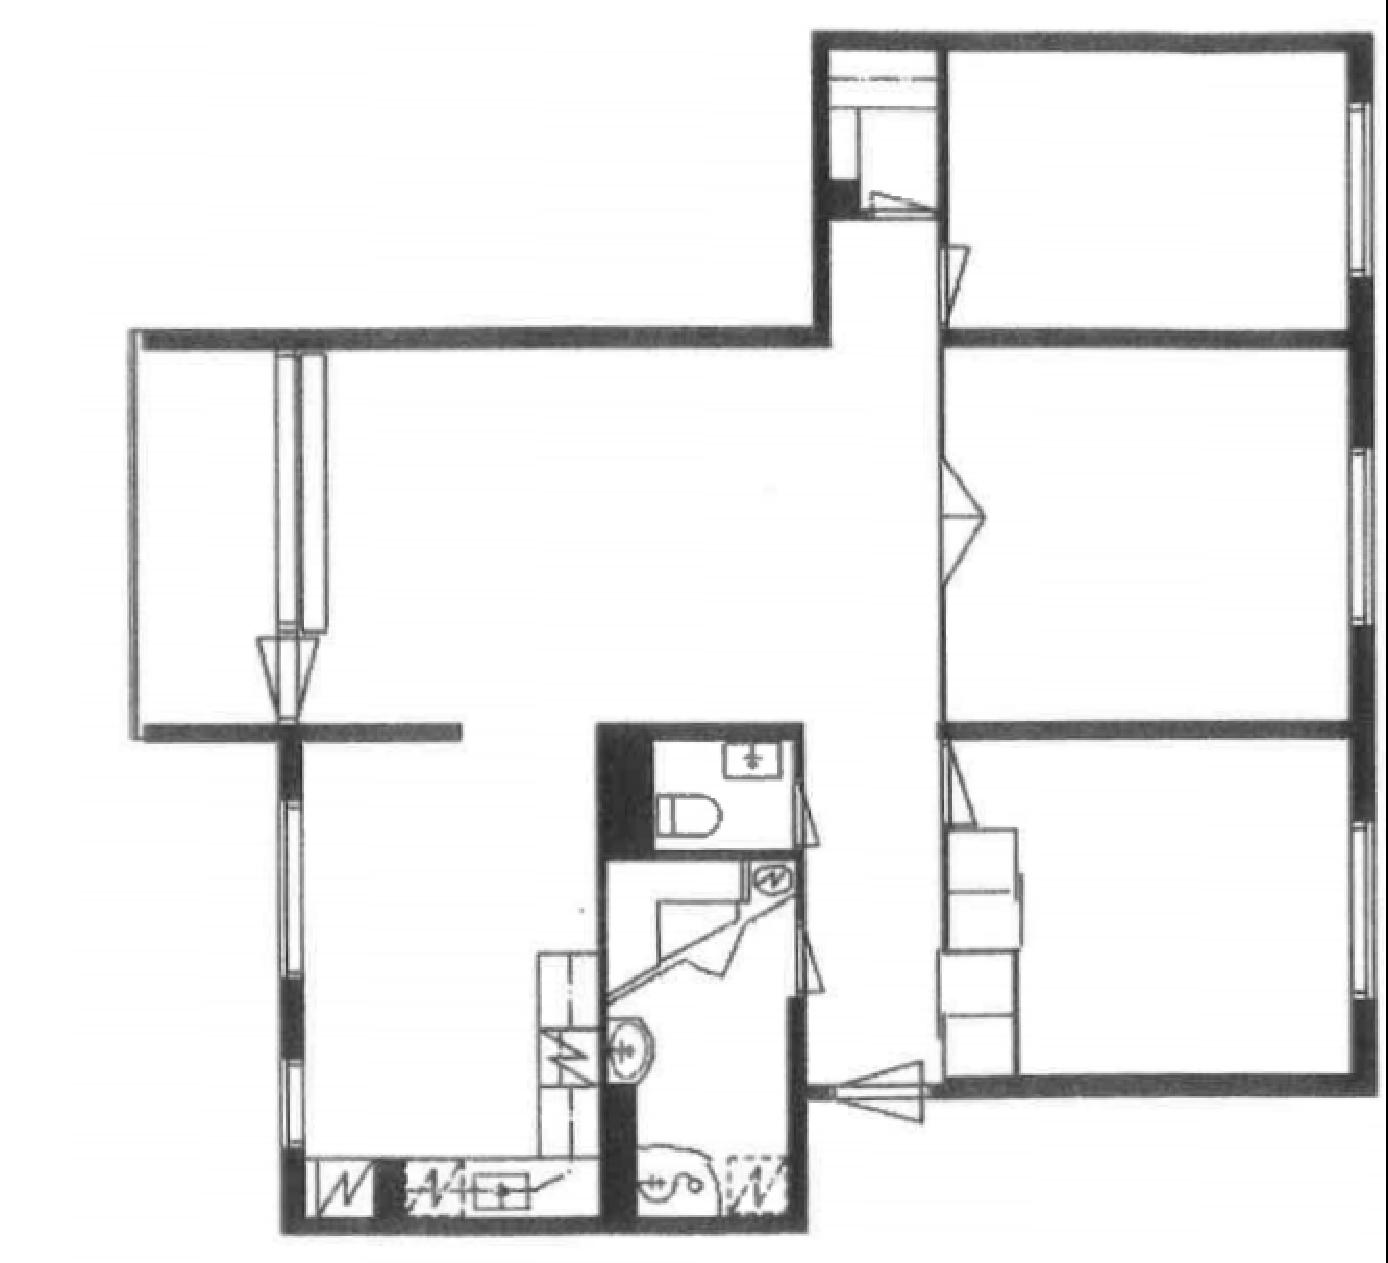door: (311, 45, 961, 1218), (942, 344, 1344, 718), (943, 738, 1352, 1074), (939, 50, 1351, 328), (611, 864, 786, 1213), (135, 335, 284, 731)
window: (825, 1064, 938, 1126), (935, 463, 990, 581), (259, 633, 328, 725), (943, 751, 990, 832), (792, 923, 828, 995), (793, 790, 828, 852), (871, 184, 931, 218), (943, 245, 967, 323)
zone: (274, 353, 324, 628), (1346, 450, 1380, 626), (278, 799, 307, 979), (1346, 825, 1373, 998), (1347, 102, 1370, 276), (284, 1060, 307, 1146)
